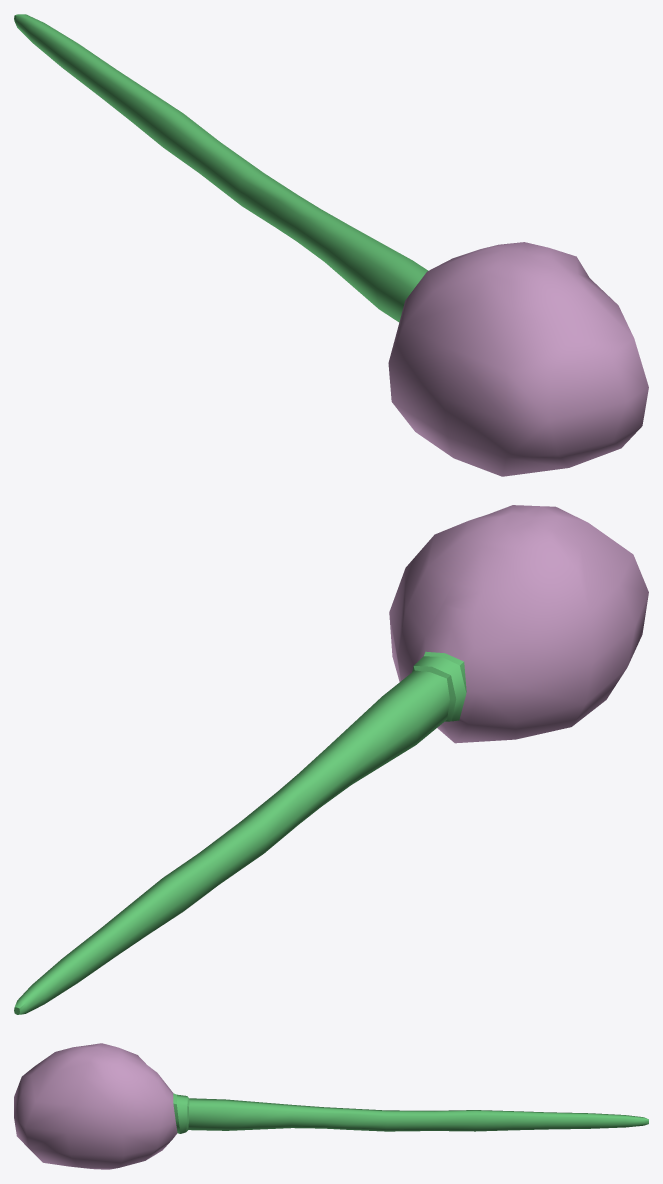
The model's file is player_02.fbx.
3 renders of one model, top to bottom at view 1: azimuth 30°, elevation 25°; view 2: azimuth 150°, elevation 25°; view 3: azimuth 270°, elevation 25°, orthographic. The views are drawn at different scales.
Visible parts, largest first — view 1: head, tail; view 2: head, tail; view 3: head, tail.
Part boxes in pixels (bbox=[...]): head: bbox=[388, 242, 648, 476]; tail: bbox=[14, 14, 428, 322]; head: bbox=[389, 505, 648, 743]; tail: bbox=[14, 651, 466, 1014]; head: bbox=[14, 1043, 177, 1169]; tail: bbox=[173, 1093, 648, 1133].
Bounding box in the file's own units: 1.94 × 1.81 × 9.42.
